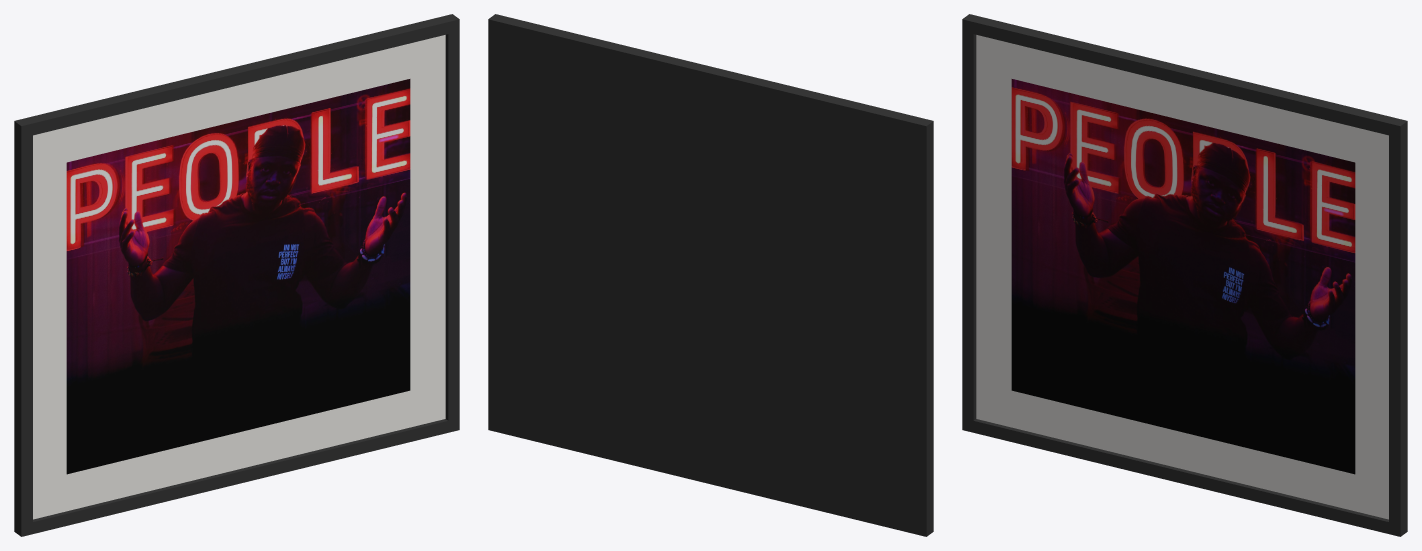
File: people-60.gltf
3 views of the same model, side by side, from view 1: azimuth 30°, elevation 25°; view 2: azimuth 150°, elevation 25°; view 3: azimuth 330°, elevation 25° (orthographic).
Visible parts, largest first — view 1: tavla; view 2: tavla; view 3: tavla.
Boxes of the visible parts, x1=… form: tavla: x1=14, y1=14, x2=459, y2=536; tavla: x1=488, y1=14, x2=933, y2=536; tavla: x1=962, y1=14, x2=1407, y2=536.
Bounding box in the file's own units: 0.7648 × 0.6848 × 0.022.
3 materials, 1 textured.
